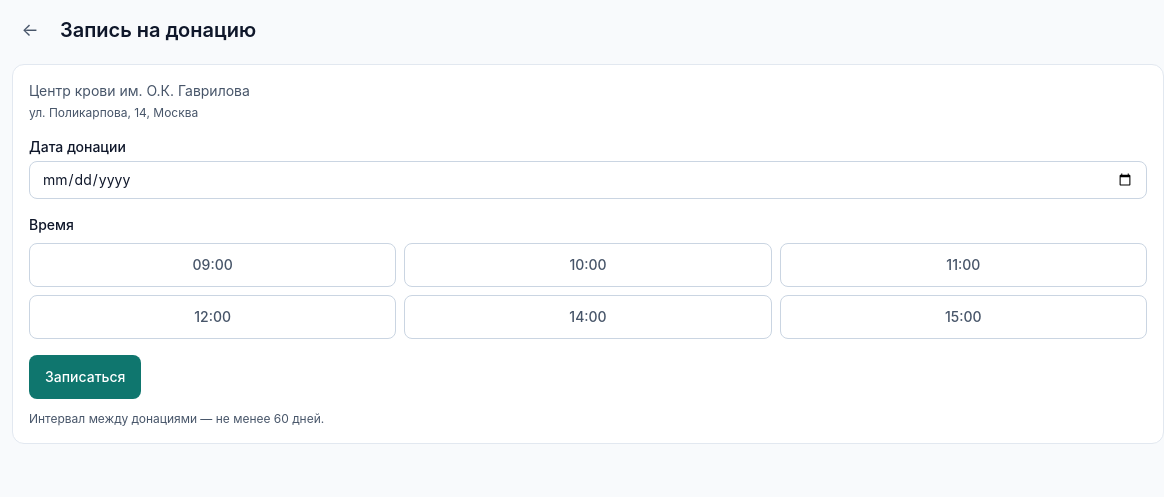
Test: BookingPage — ошибки API (матрица ошибок ТЗ) › интервал < 60 дней: «Интервал не соблюдён» (FR-5.2)
In the date field labelled "Дата донации": (588, 180) x1=29 y1=161 x2=1147 y2=199, type "2026-06-01"
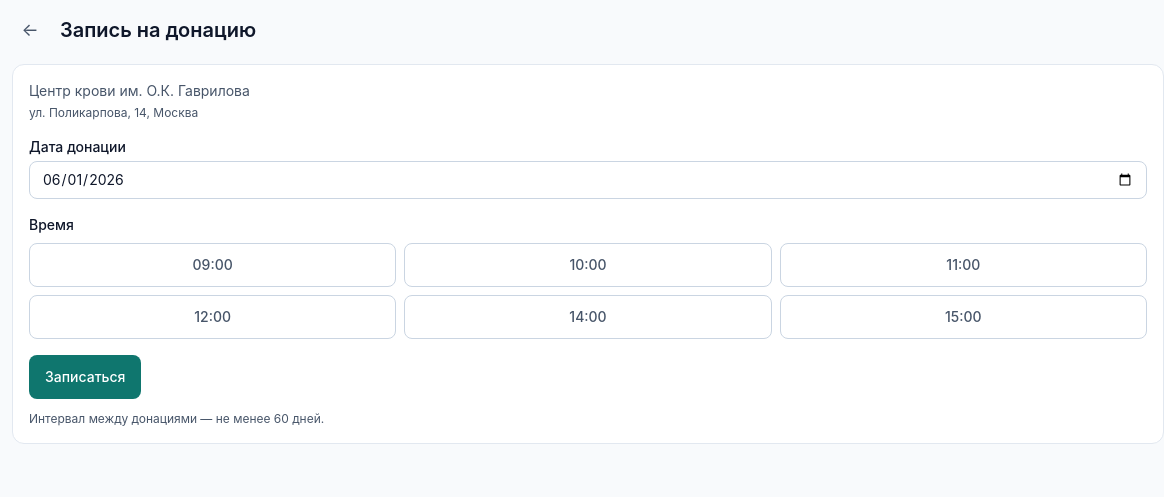
Click the button "10:00": (588, 265) x1=404 y1=243 x2=772 y2=287
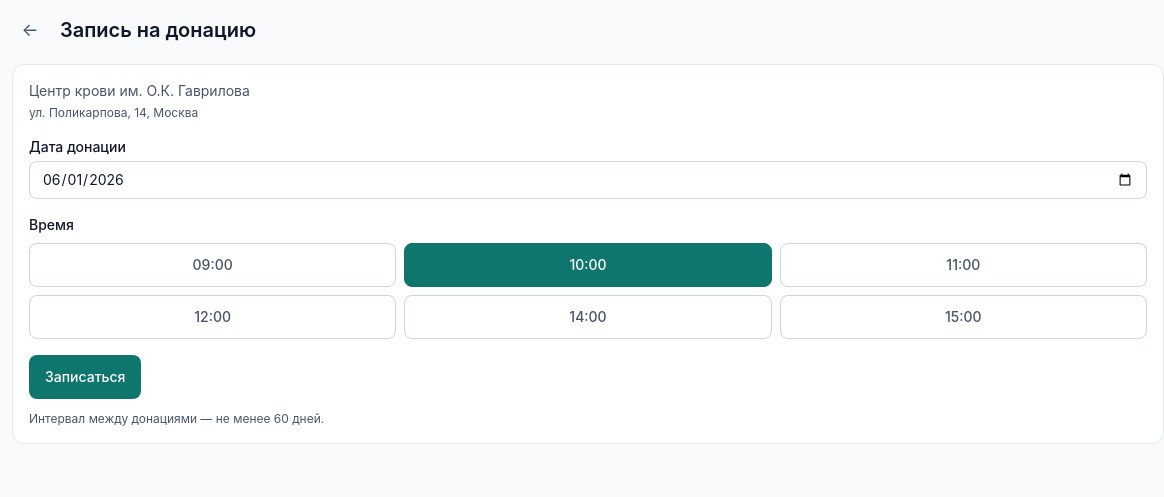
Click the button "Записаться": (85, 377) x1=29 y1=355 x2=142 y2=399
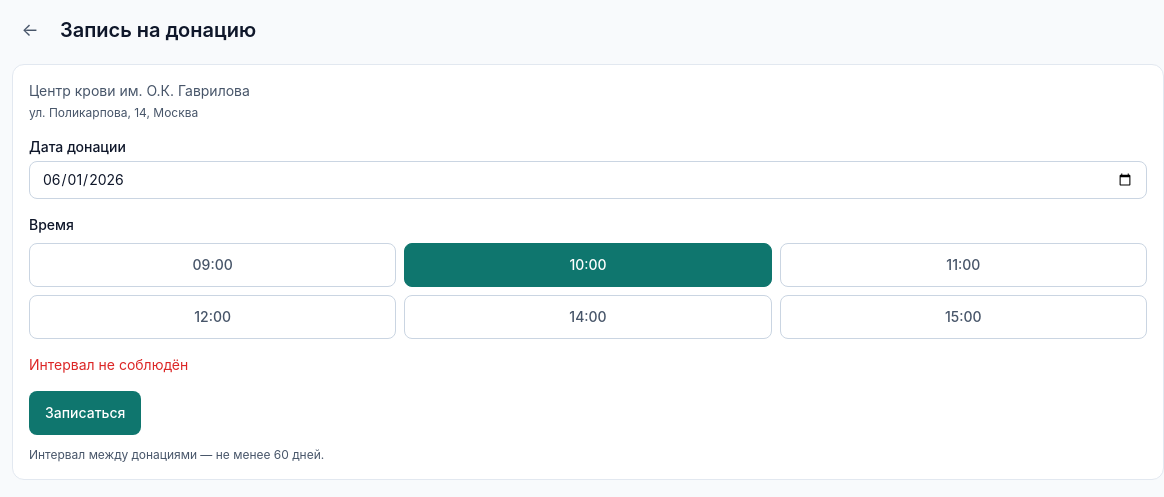
Result: the text "Интервал не соблюдён" is shown at x1=29 y1=356 x2=188 y2=373
